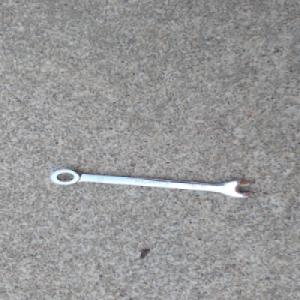Wrench: (49, 168, 253, 198)
